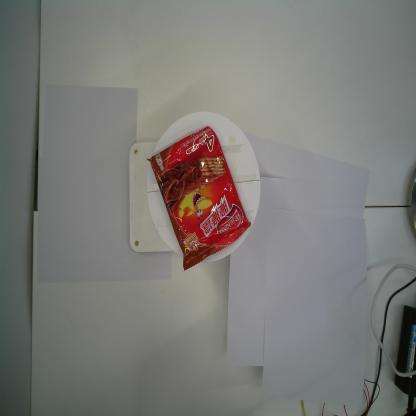Dessert: (146, 126, 252, 272)
